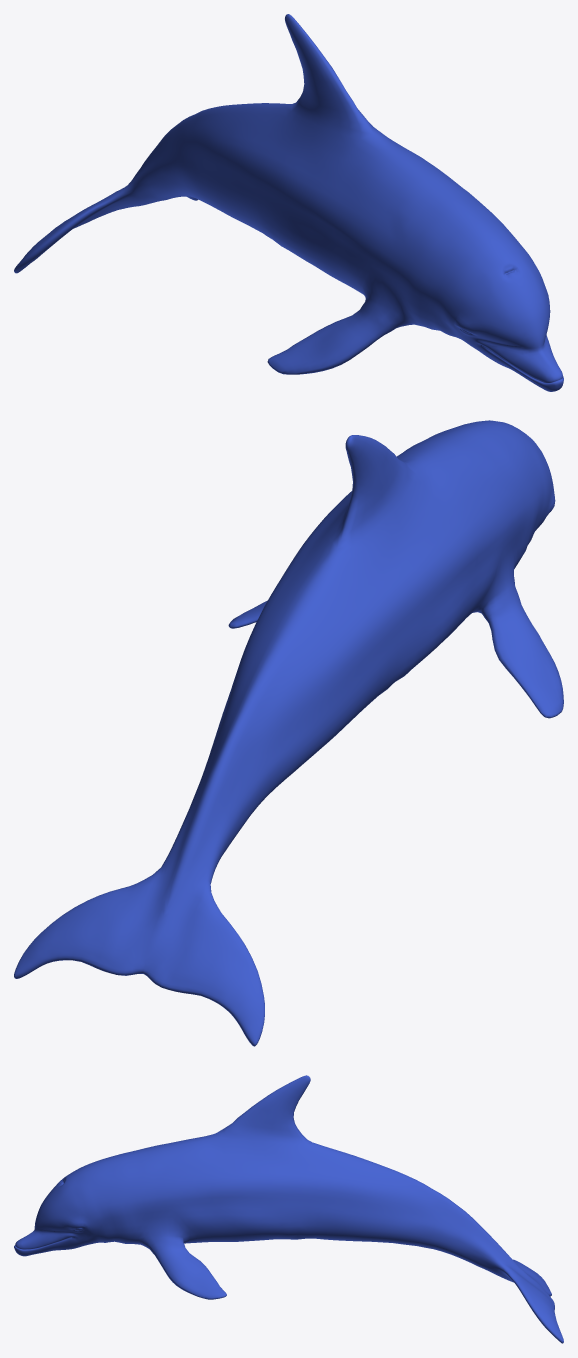
Rendered from delfin.obj.
3 renders of one model, top to bottom at view 1: azimuth 30°, elevation 25°; view 2: azimuth 150°, elevation 25°; view 3: azimuth 270°, elevation 25°, orthographic. The views are drawn at different scales.
Visible parts, largest first — view 1: dolphin; view 2: dolphin; view 3: dolphin.
Part boxes in pixels (x1,y1,x2,y2): dolphin: [14, 14, 563, 391]; dolphin: [14, 420, 563, 1046]; dolphin: [14, 1075, 563, 1343].
Bounding box in the file's own units: 39.69 × 52.37 × 105.
